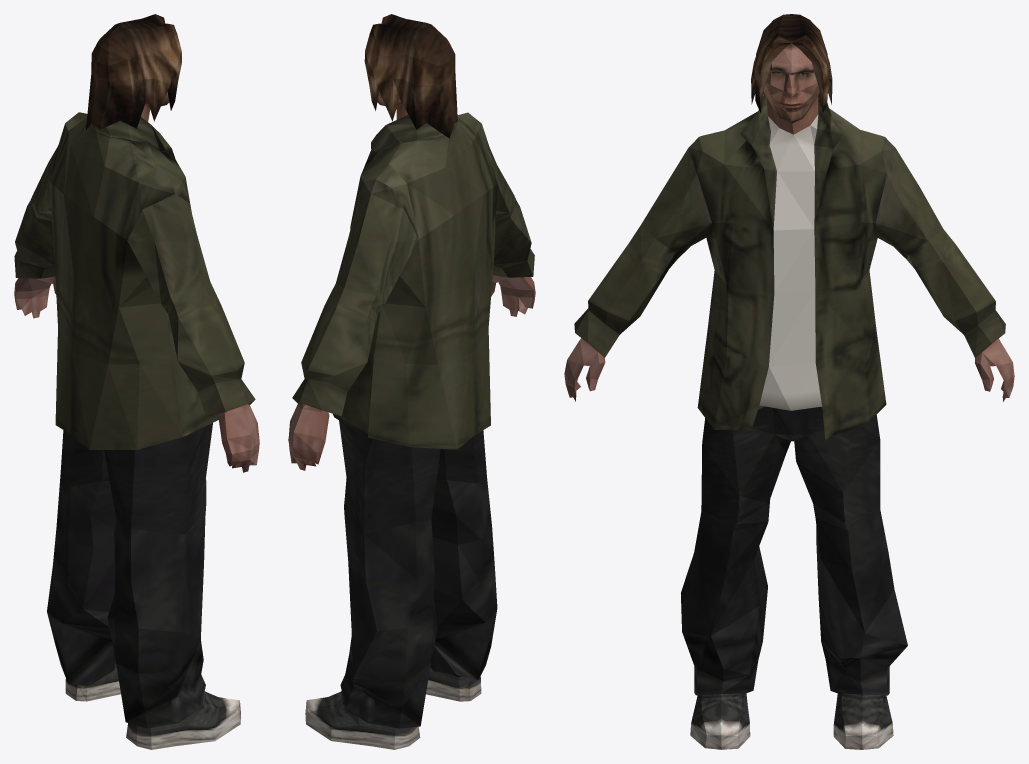
The model's file is wmyst.obj.
3 renders of one model, left to right at view 1: azimuth 30°, elevation 25°; view 2: azimuth 150°, elevation 25°; view 3: azimuth 270°, elevation 25°, orthographic.
Visible parts, largest first — view 1: _Pelvis; view 2: _Pelvis; view 3: _Pelvis.
Part boxes in pixels (left/top/right/bottom): _Pelvis: left=14, top=14, right=259, bottom=749; _Pelvis: left=288, top=14, right=535, bottom=749; _Pelvis: left=564, top=14, right=1014, bottom=749.
Size of the model in its own units: 0.381 by 1.85 by 1.08.
Materials: 1 (1 with a texture image).
